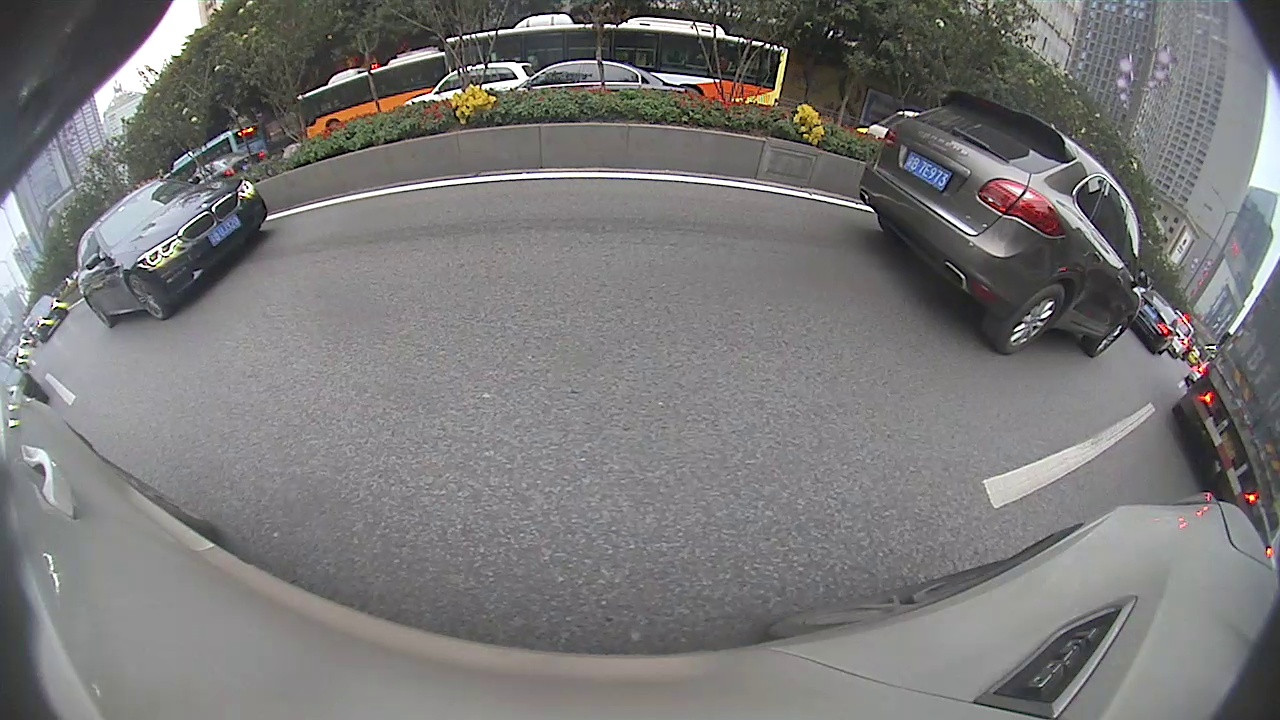car: (56, 151, 460, 415), (694, 120, 940, 254), (503, 155, 574, 203), (640, 151, 679, 185)
front: (423, 199, 455, 249), (695, 179, 711, 210)
rear: (192, 269, 285, 372), (749, 186, 777, 241)
